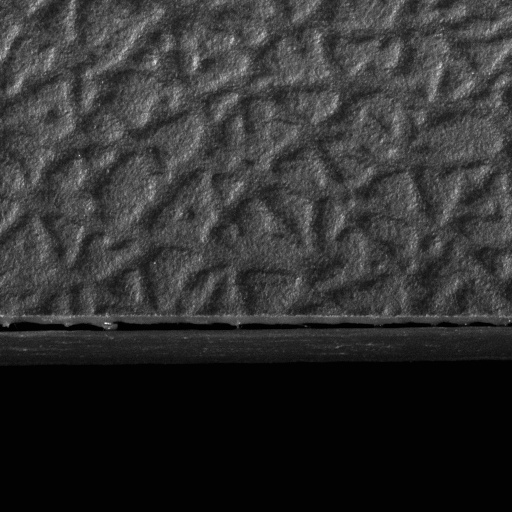kaijiao: (0, 308, 511, 370)
